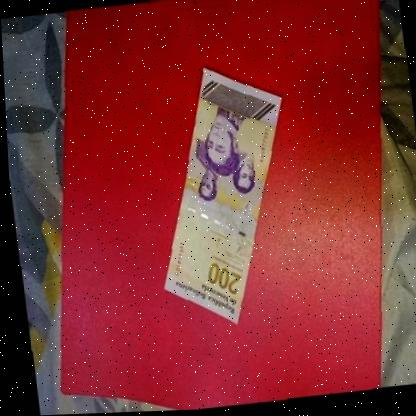vef_front: (135, 59, 306, 333)
